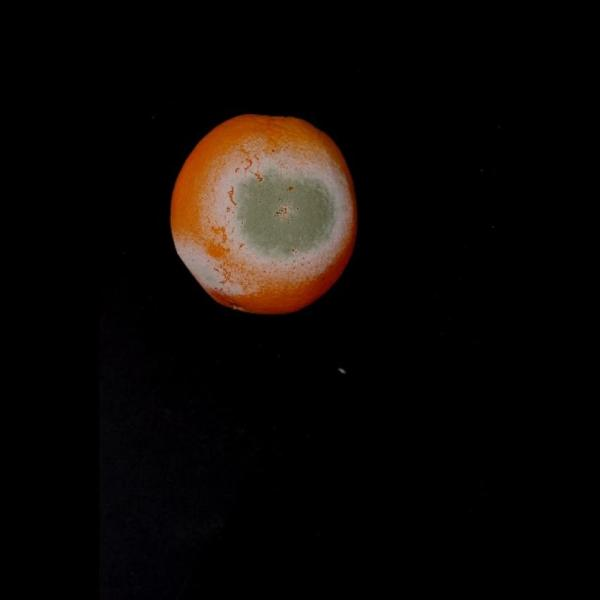Moho verde: (154, 106, 382, 338)
